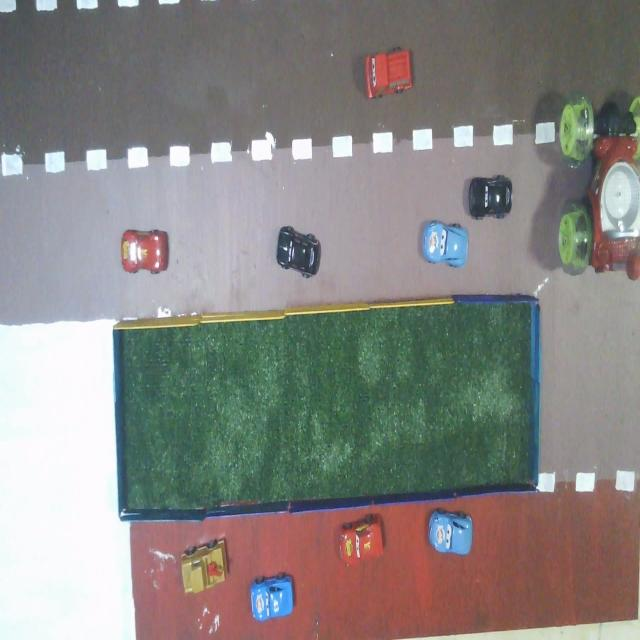emergency car: (558, 97, 639, 280)
small cars: (365, 47, 412, 98), (182, 540, 226, 593), (340, 514, 383, 565), (277, 226, 320, 277), (423, 222, 468, 267), (121, 230, 168, 273), (468, 175, 513, 219), (251, 574, 293, 621), (429, 510, 472, 555)
